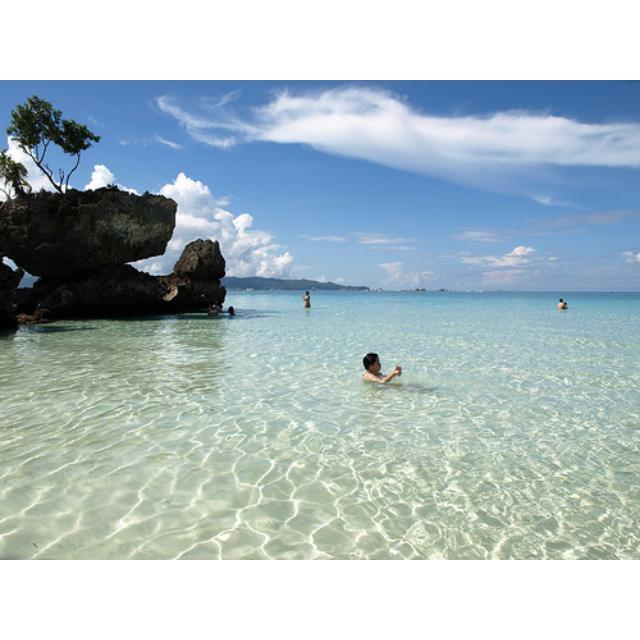human: (360, 350, 404, 384), (303, 291, 311, 314), (559, 299, 570, 313)
